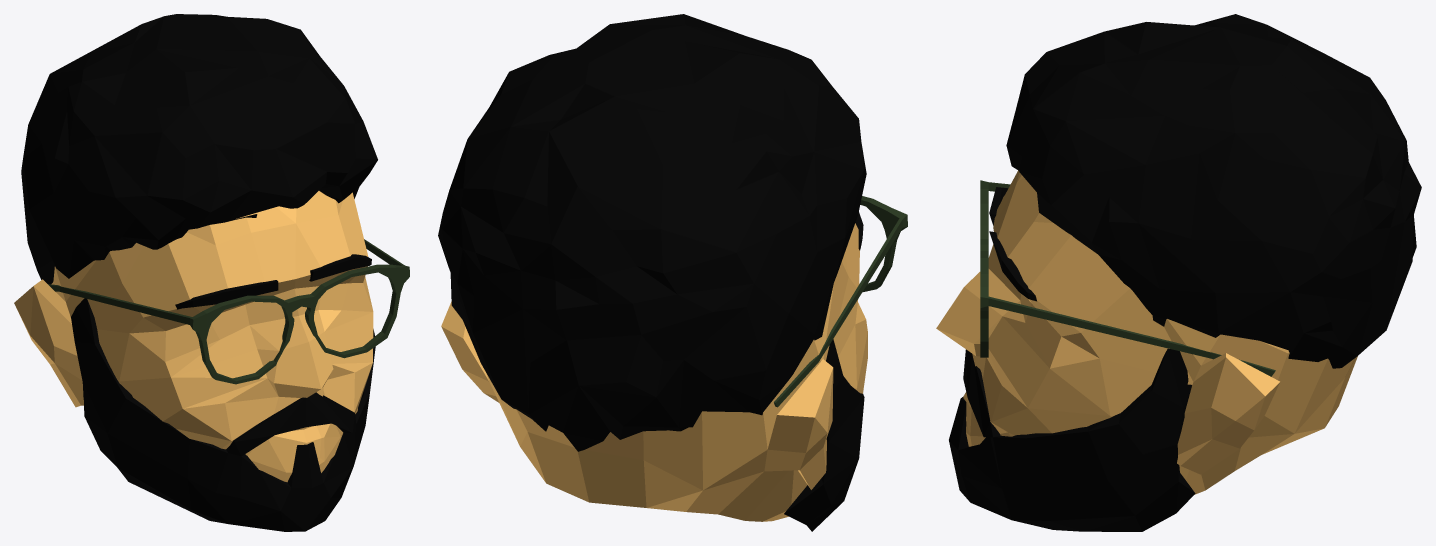
The model's file is dean_lowPoly.glb.
The picture shows the model from 3 angles, left to right: view 1: azimuth 30°, elevation 25°; view 2: azimuth 150°, elevation 25°; view 3: azimuth 270°, elevation 25°; orthographic projection. The views are drawn at different scales.
Parts seen in each view (by area): view 1: dean_lowPoly; view 2: dean_lowPoly; view 3: dean_lowPoly.
Boxes of the visible parts, x1,y1,x2,y2 form: dean_lowPoly: (14, 14, 409, 531); dean_lowPoly: (438, 14, 907, 531); dean_lowPoly: (936, 14, 1421, 531).
Size of the model in its own units: 19.01 by 24.06 by 22.8.
Materials: 1 (1 with a texture image).
